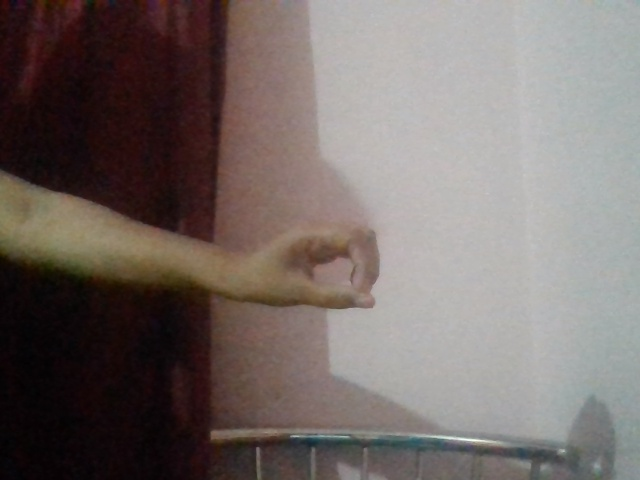O: (196, 165, 481, 355)
